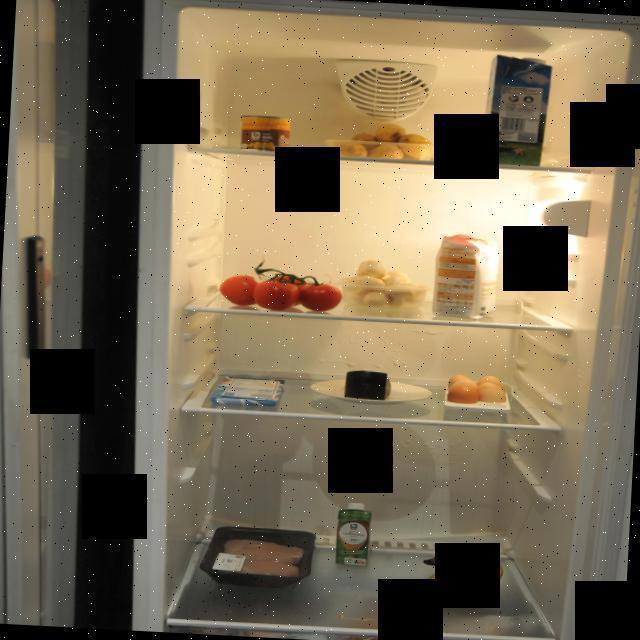banana: (401, 543, 508, 611)
cheese: (343, 368, 398, 402)
chicken_breast: (197, 521, 321, 593)
chocolate: (209, 374, 287, 409)
corn: (234, 110, 298, 154)
egg: (443, 372, 514, 412)
heavy_cream: (331, 500, 376, 569)
milk: (482, 51, 555, 169)
mushrooms: (334, 255, 432, 311)
potato: (323, 118, 438, 162)
sugar: (429, 232, 503, 322)
tomato: (217, 254, 346, 314)
